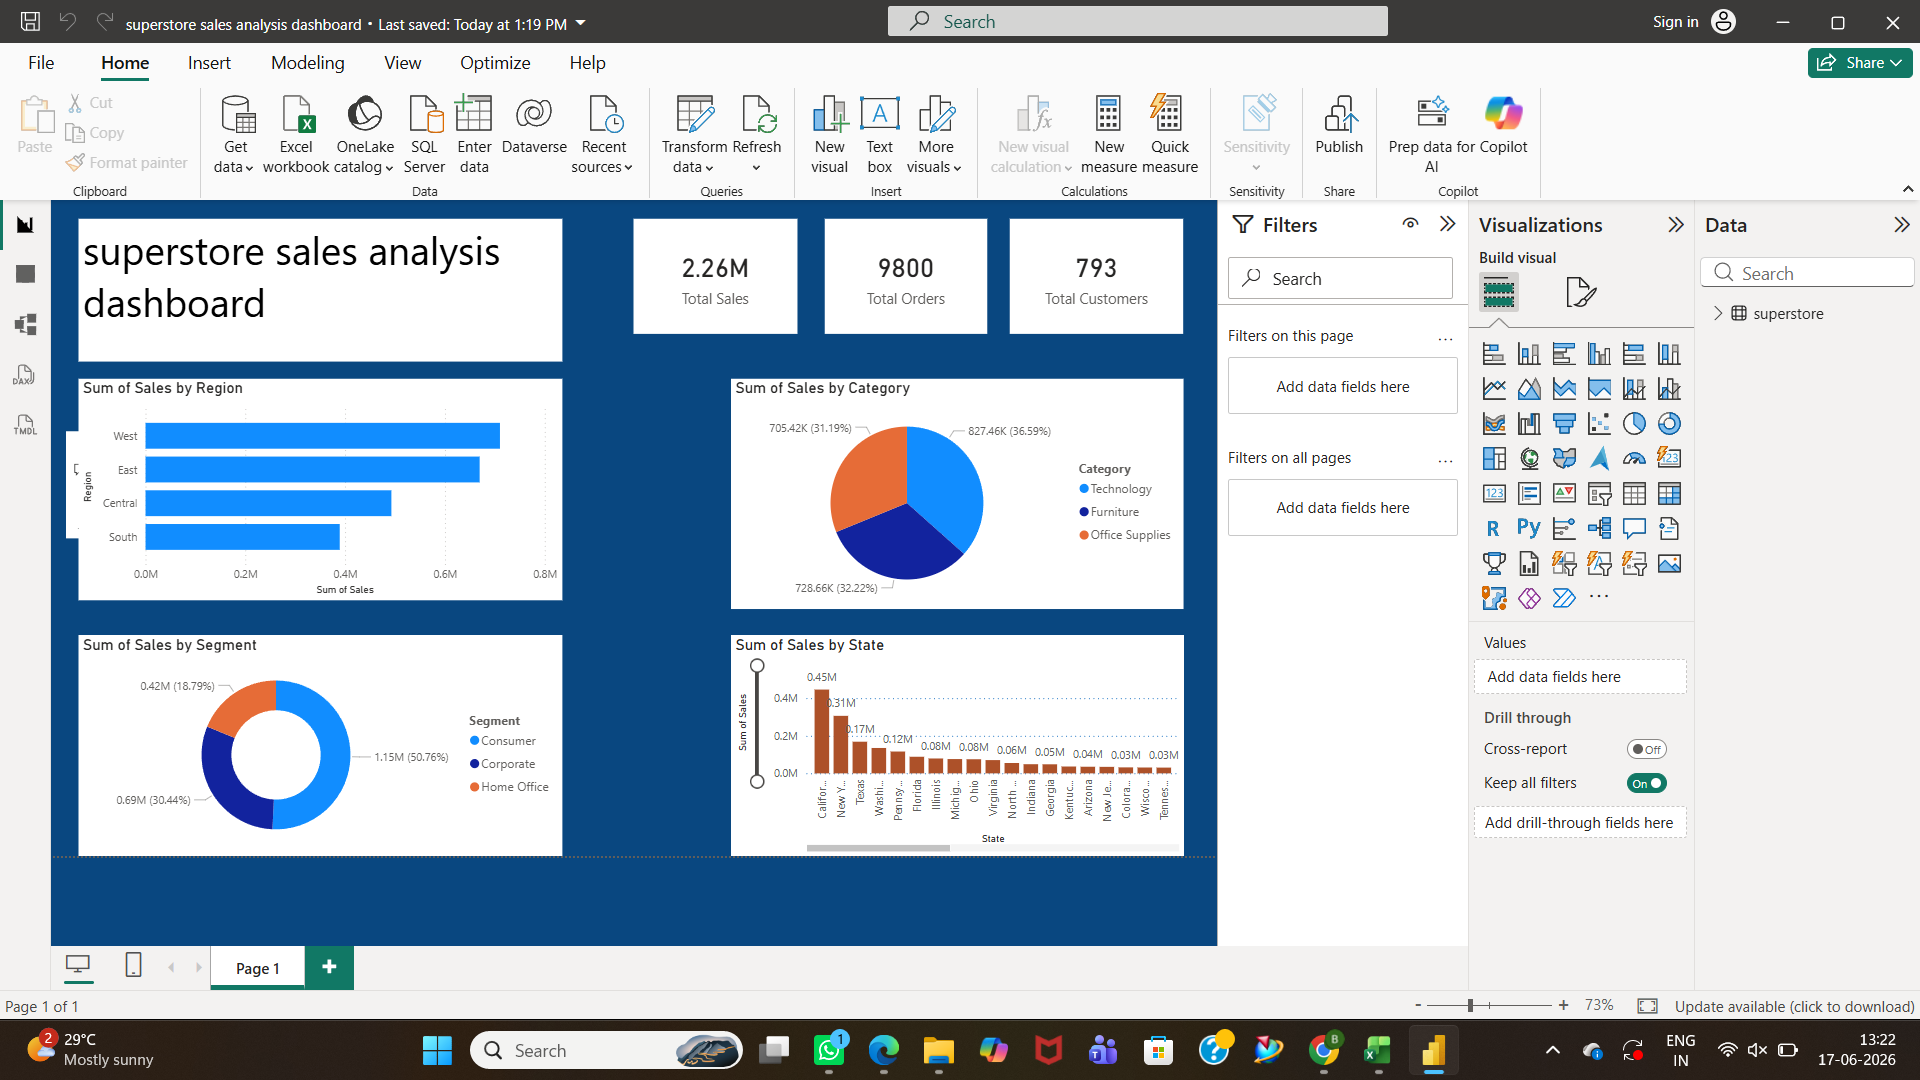

This screenshot's page, from the dashboard's own definition file:
{"tool":"powerbi","page":{"name":"Page 1","canvas":[1280,720],"ordinal":0},"visuals":[{"type":"qnaVisual","box":[17.1,254.3,178.5,117.4],"z":0},{"type":"card","fields":{"Values":["superstore.Total Sales"]},"box":[639.5,20.6,179.8,126.2],"z":1000},{"type":"card","fields":{"Values":["superstore.Total Orders"]},"box":[849.4,20.6,178.4,126.2],"z":2000},{"type":"card","fields":{"Values":["superstore.Total Customers"]},"box":[1052.5,20.6,190.7,126.2],"z":3000},{"type":"clusteredBarChart","fields":{"Category":["superstore.Region"],"Y":["Sum(superstore.Sales)"]},"box":[30.2,196.2,531,242.9],"z":4000},{"type":"pieChart","fields":{"Category":["superstore.Category"],"Y":["Sum(superstore.Sales)"]},"box":[746.5,196.2,496.7,252.5],"z":5000},{"type":"clusteredColumnChart","fields":{"Category":["superstore.State"],"Y":["Sum(superstore.Sales)"]},"box":[746.5,477.5,496.7,242.9],"z":6000},{"type":"donutChart","fields":{"Category":["superstore.Segment"],"Y":["Sum(superstore.Sales)"]},"box":[30.2,477.5,531,242.9],"z":7000},{"type":"textbox","box":[30.2,20.6,531,156.4],"z":7001}]}

Visuals, with their boxes on the page's 1280x720 design canvas (x1, y1, x2, y2). These are canvas units, not pixel positions in the 1920x1080 screenshot, which may show the page scaled, cropped or inside an application window:
qnaVisual: rect(17, 254, 196, 372)
card - superstore.Total Sales: rect(640, 21, 819, 147)
card - superstore.Total Orders: rect(849, 21, 1028, 147)
card - superstore.Total Customers: rect(1052, 21, 1243, 147)
clusteredBarChart - superstore.Region x Sum(superstore.Sales): rect(30, 196, 561, 439)
pieChart - superstore.Category x Sum(superstore.Sales): rect(746, 196, 1243, 449)
clusteredColumnChart - superstore.State x Sum(superstore.Sales): rect(746, 478, 1243, 720)
donutChart - superstore.Segment x Sum(superstore.Sales): rect(30, 478, 561, 720)
textbox: rect(30, 21, 561, 177)
